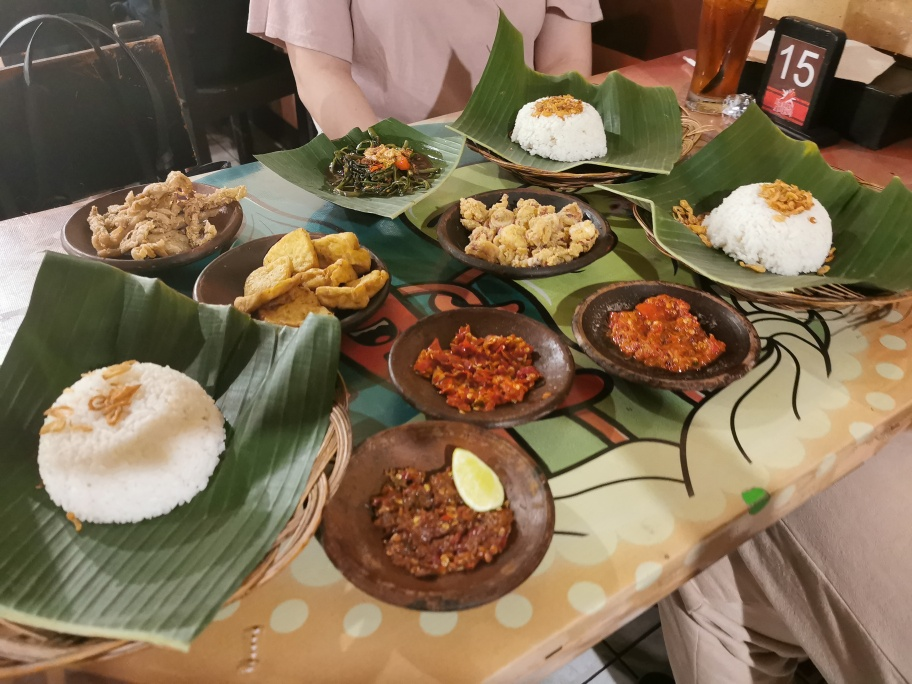nasi putih: (37, 356, 228, 524), (707, 178, 837, 281), (511, 90, 607, 161)
